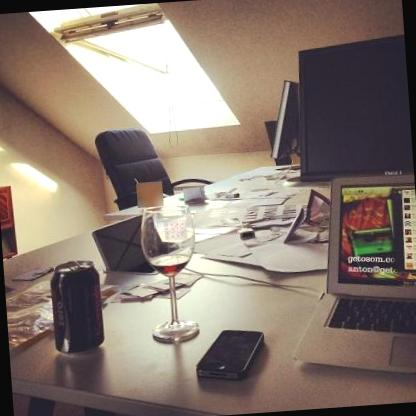alumunium_can: (50, 260, 108, 358)
objects: (138, 203, 202, 345)
